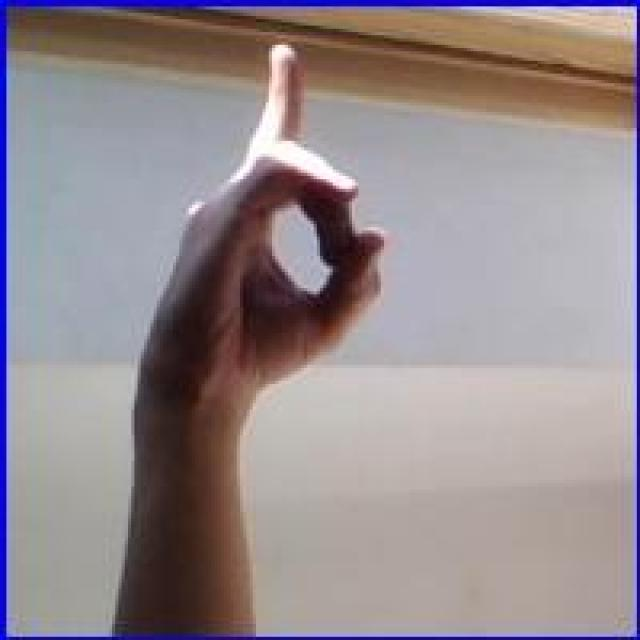D: (139, 37, 389, 456)
